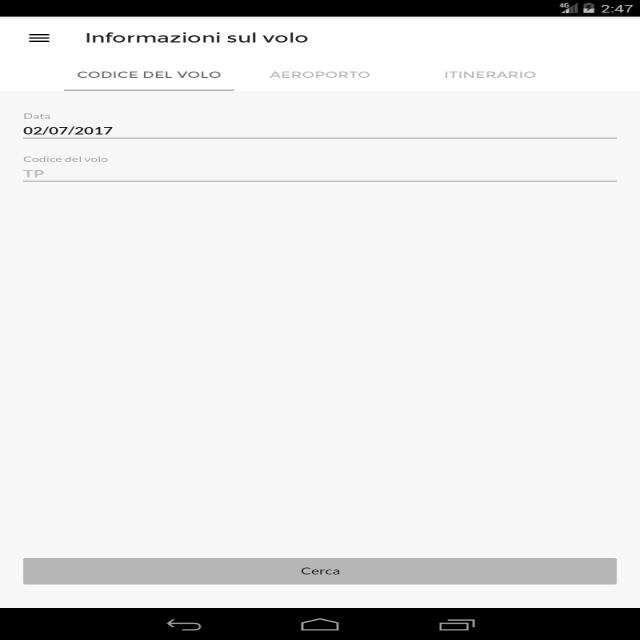Button: (15, 555, 625, 589)
EditText: (19, 152, 626, 186), (18, 108, 622, 142)
ImageButton: (25, 28, 56, 48)
TextView: (83, 29, 314, 47), (70, 63, 228, 83), (266, 64, 376, 82), (438, 64, 542, 82)
